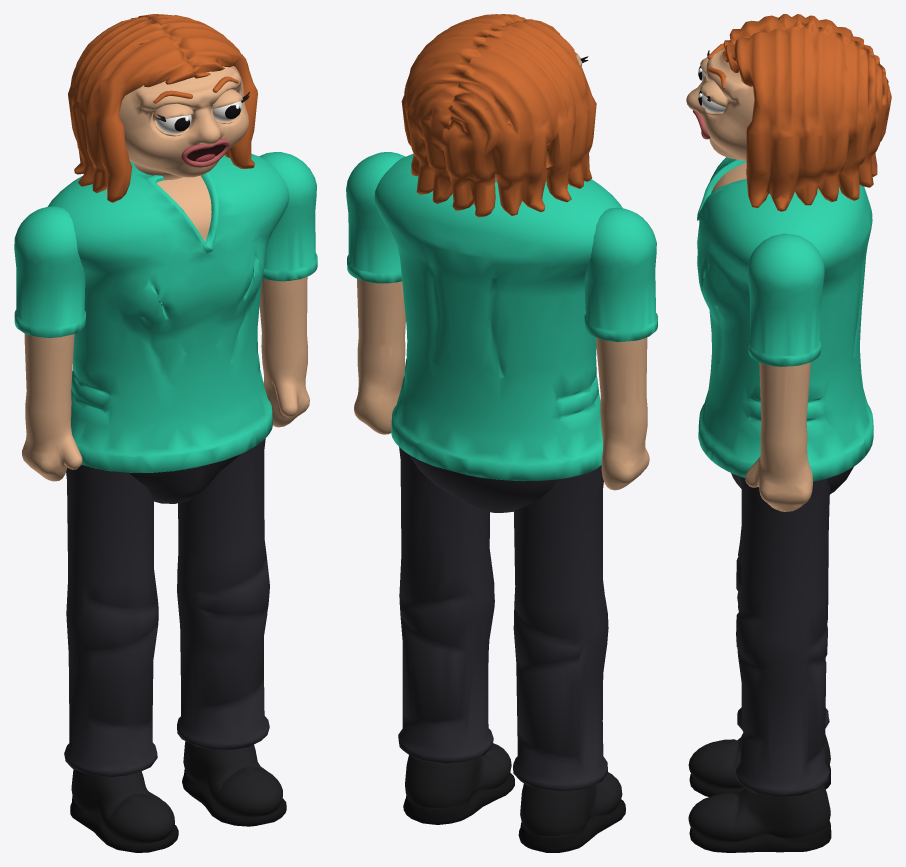
Rendered from liner_1.glb.
3 renders of one model, left to right at view 1: azimuth 30°, elevation 25°; view 2: azimuth 150°, elevation 25°; view 3: azimuth 270°, elevation 25°, orthographic. The views are drawn at different scales.
Parts seen in each view (by area): view 1: Body_Mesh, LegR_Mesh, LegL_Mesh, Head_Mesh, ArmR_Mesh, ArmL_Mesh, Mouth; view 2: Body_Mesh, LegR_Mesh, Head_Mesh, LegL_Mesh, ArmR_Mesh, ArmL_Mesh; view 3: LegL_Mesh, Body_Mesh, Head_Mesh, ArmL_Mesh, LegR_Mesh.
Part boxes in pixels (x1=…): Body_Mesh: x1=48, y1=153, x2=289, y2=503; LegR_Mesh: x1=64, y1=464, x2=178, y2=852; LegL_Mesh: x1=177, y1=438, x2=286, y2=826; Head_Mesh: x1=68, y1=14, x2=257, y2=202; ArmR_Mesh: x1=14, y1=206, x2=85, y2=481; ArmL_Mesh: x1=259, y1=152, x2=317, y2=427; Mouth: x1=181, y1=139, x2=230, y2=167; Body_Mesh: x1=374, y1=153, x2=622, y2=512; LegR_Mesh: x1=513, y1=465, x2=625, y2=852; Head_Mesh: x1=401, y1=14, x2=596, y2=217; LegL_Mesh: x1=398, y1=447, x2=514, y2=824; ArmR_Mesh: x1=584, y1=207, x2=657, y2=490; ArmL_Mesh: x1=346, y1=152, x2=405, y2=434; LegL_Mesh: x1=688, y1=477, x2=831, y2=852; Body_Mesh: x1=697, y1=157, x2=873, y2=494; Head_Mesh: x1=686, y1=14, x2=891, y2=211; ArmL_Mesh: x1=745, y1=233, x2=824, y2=511; LegR_Mesh: x1=688, y1=491, x2=830, y2=796.
Bounding box in the file's own units: 0.6799 × 1.72 × 0.4073.
